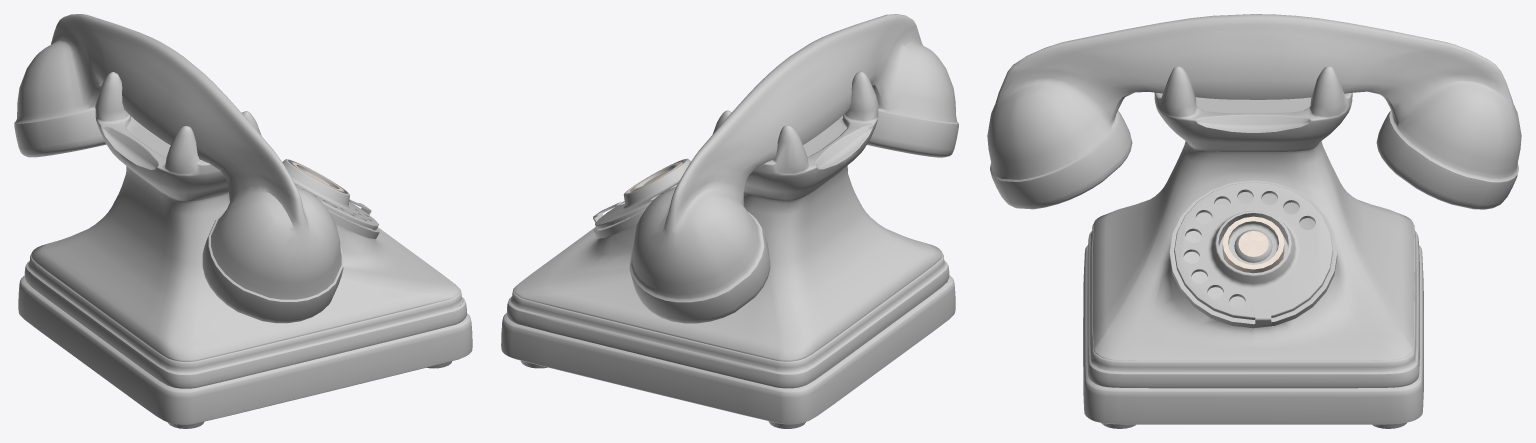
The model's file is Telephone Interactive_03.FBX.
The picture shows the model from 3 angles, left to right: view 1: azimuth 30°, elevation 25°; view 2: azimuth 150°, elevation 25°; view 3: azimuth 270°, elevation 25°; orthographic projection. The views are drawn at different scales.
Visible parts, largest first — view 1: Group_002, Group_005, Group_010, Phone_final_top_Plane.014_001, Group_006, Group_003; view 2: Group_002, Group_005, Group_010, Phone_final_top_Plane.014_001, Group_006, Group_003; view 3: Group_002, Group_005, Group_010, Group_006, Phone_final_top_Plane.014_001, Group_003, Group_008.
Part boxes in pixels (left/top/right/bottom): Group_002: left=14, top=14, right=343, bottom=323; Group_005: left=28, top=166, right=462, bottom=372; Group_010: left=18, top=261, right=472, bottom=424; Phone_final_top_Plane.014_001: left=95, top=72, right=261, bottom=201; Group_006: left=282, top=159, right=378, bottom=229; Group_003: left=328, top=211, right=380, bottom=238; Group_002: left=629, top=14, right=958, bottom=323; Group_005: left=510, top=165, right=945, bottom=372; Group_010: left=501, top=260, right=955, bottom=424; Phone_final_top_Plane.014_001: left=712, top=71, right=878, bottom=200; Group_006: left=595, top=158, right=690, bottom=228; Group_003: left=593, top=211, right=644, bottom=238; Group_002: left=987, top=14, right=1521, bottom=209; Group_005: left=1090, top=141, right=1416, bottom=372; Group_010: left=1083, top=231, right=1423, bottom=424; Group_006: left=1174, top=182, right=1332, bottom=319; Phone_final_top_Plane.014_001: left=1154, top=66, right=1352, bottom=151; Group_003: left=1169, top=180, right=1337, bottom=328; Group_008: left=1222, top=216, right=1284, bottom=273.
Bounding box in the file's own units: 2.73 × 2.54 × 3.95.
